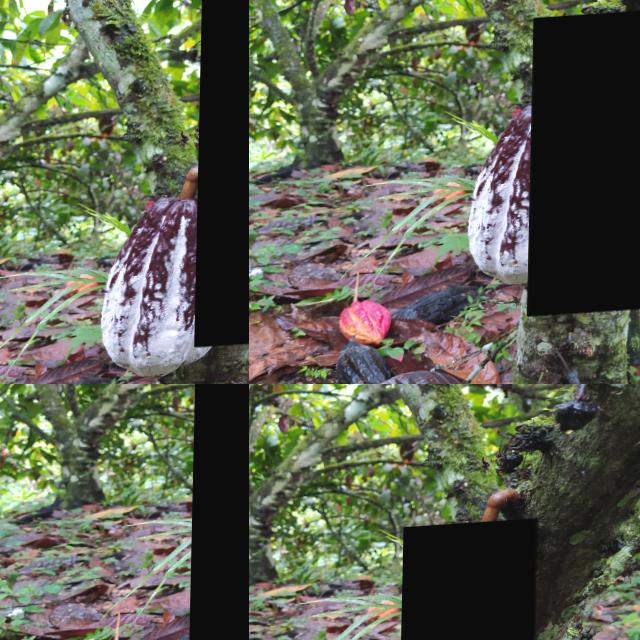Monilia: (402, 524, 539, 640)
Sana: (358, 59, 532, 280), (529, 11, 640, 321), (196, 0, 249, 352), (190, 384, 249, 640), (352, 281, 393, 335)
